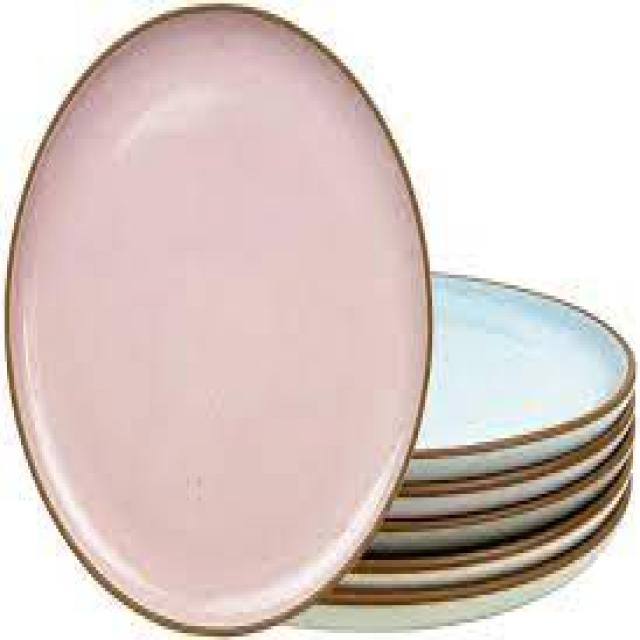Plate: (4, 2, 439, 640)
